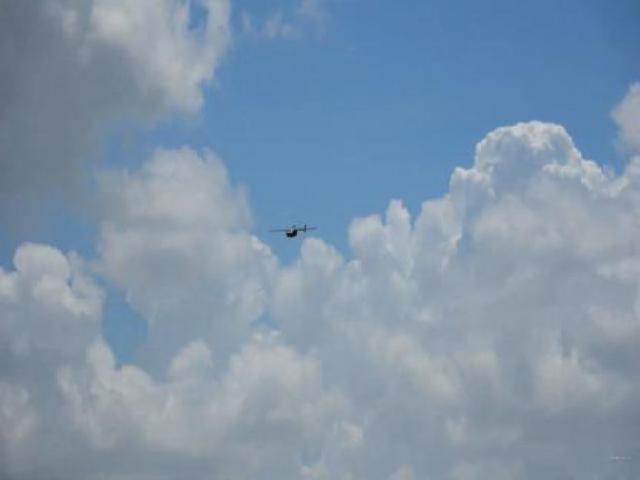uav: (268, 222, 320, 240)
